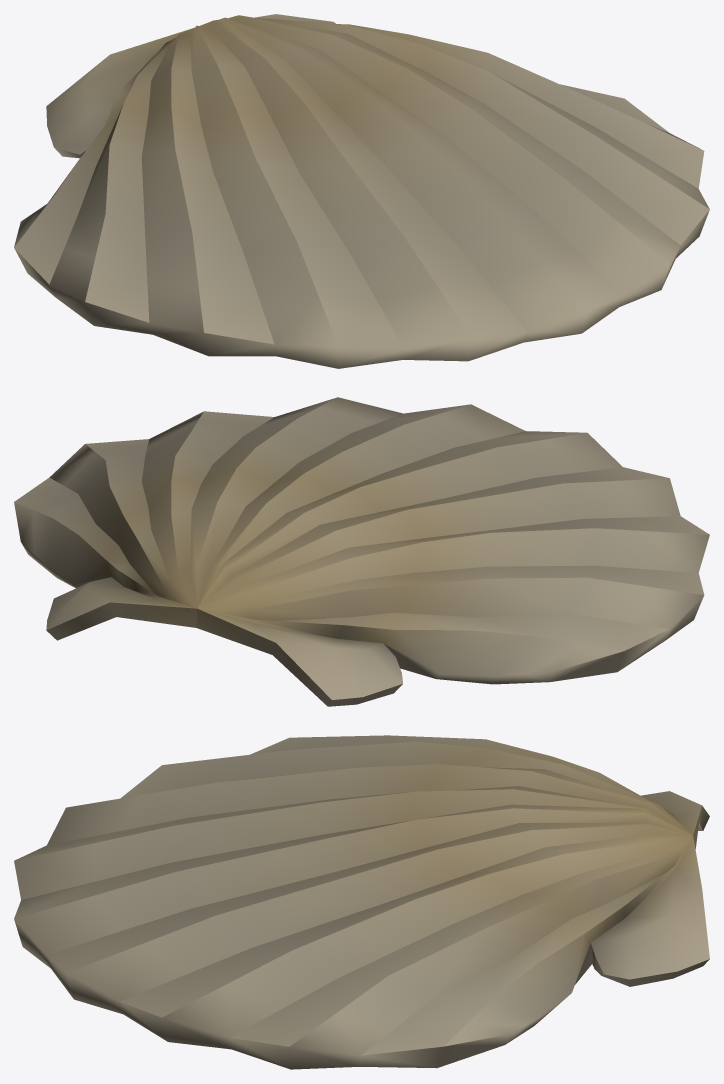
Rendered from underwater-shells-scallop-shell_v3.glb.
3 renders of one model, top to bottom at view 1: azimuth 30°, elevation 25°; view 2: azimuth 150°, elevation 25°; view 3: azimuth 270°, elevation 25°, orthographic. The views are drawn at different scales.
Parts seen in each view (by area): view 1: Scallop Shell_v3; view 2: Scallop Shell_v3; view 3: Scallop Shell_v3.
Part boxes in pixels (bbox=[...]): Scallop Shell_v3: bbox=[14, 14, 709, 368]; Scallop Shell_v3: bbox=[14, 397, 709, 706]; Scallop Shell_v3: bbox=[14, 735, 709, 1069].
Bounding box in the file's own units: 0.08 × 0.0147 × 0.0759.
